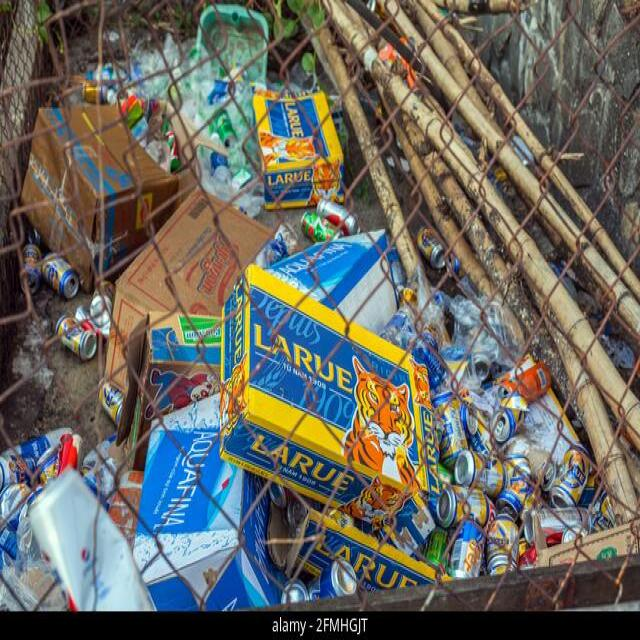trash: (31, 13, 597, 567)
